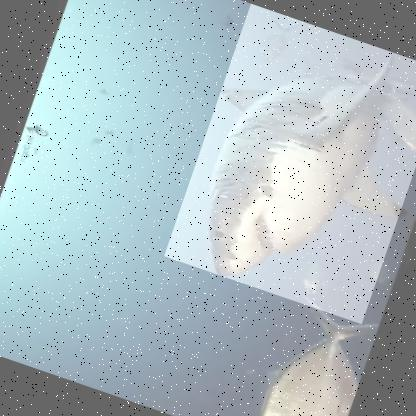white-shark: (164, 3, 415, 325)
